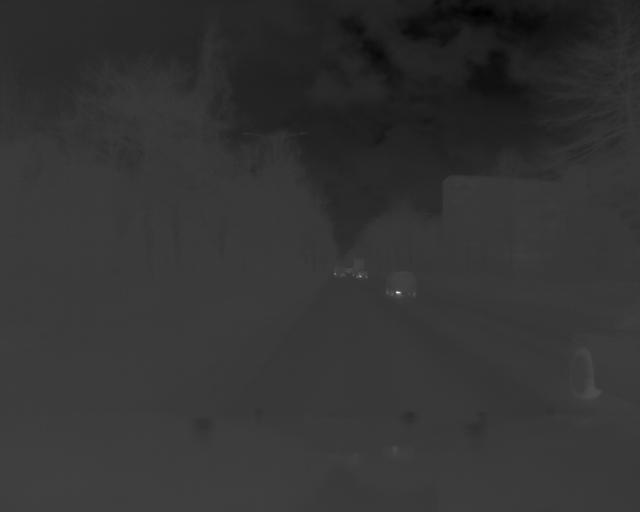car: (383, 271, 419, 302)
